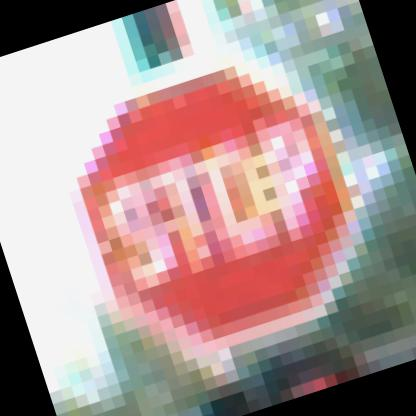stop: (29, 13, 404, 391)
